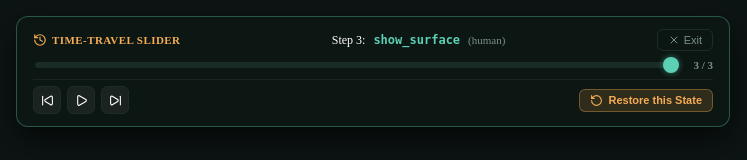
Test: TimeTravelBar Component › renders with the latest step by default and allows scrubbing
Check: the text "Time-Travel Slider" is shown, box x1=52 y1=34 x2=180 y2=46
Check: the text "3 / 3" is shown, box x1=693 y1=59 x2=713 y2=71
# Scrub to step 0
Set the slider named "Scrub through historical events" to "0" at (43, 65), box x1=35 y1=62 x2=679 y2=68
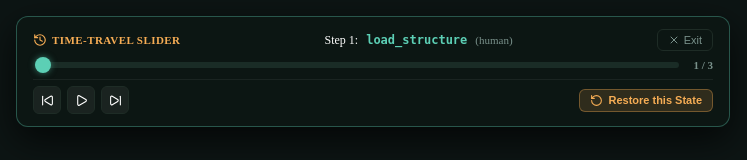
Check: the text "1 / 3" is shown, box x1=693 y1=59 x2=713 y2=71
Check: the text "load_structure" is shown, box x1=366 y1=33 x2=467 y2=47
# Jump to present state (step 3)
Click the button titled "Jump to present state".
click(115, 100)  # box x1=101 y1=86 x2=129 y2=114
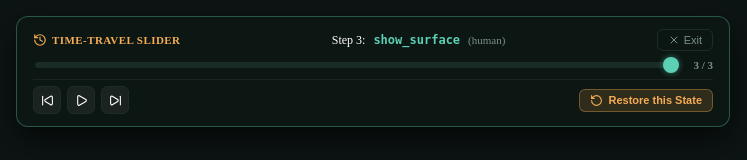
Check: the text "3 / 3" is shown, box x1=693 y1=59 x2=713 y2=71
